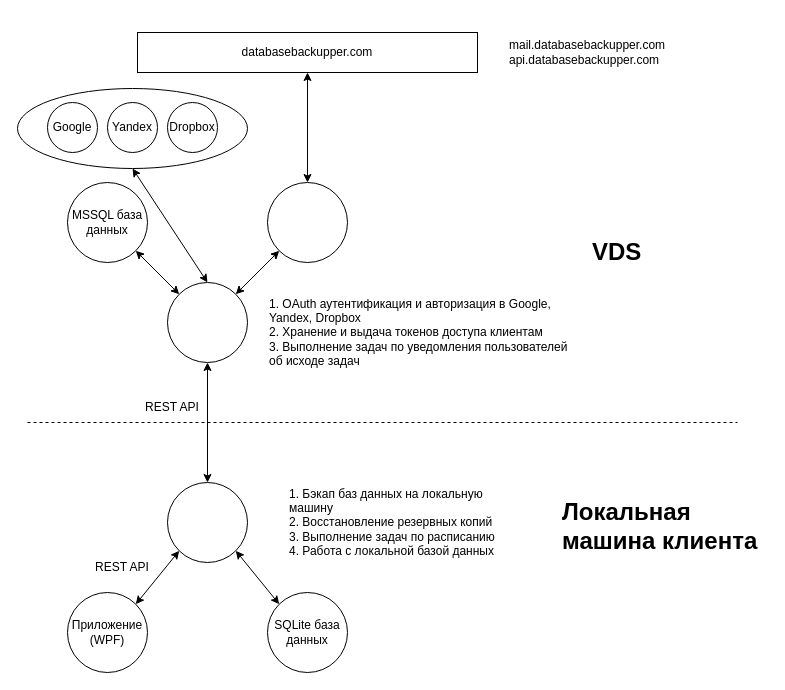
The diagram is 785 pixels wide and 690 high, and some of its shapes have lost their labels. The centre of each missing label's shape, as x and y in pixels:
"API Сервер" belongs at point (207, 322).
"Backup сервер" belongs at point (207, 522).
"Почтовый сервер" belongs at point (307, 222).
